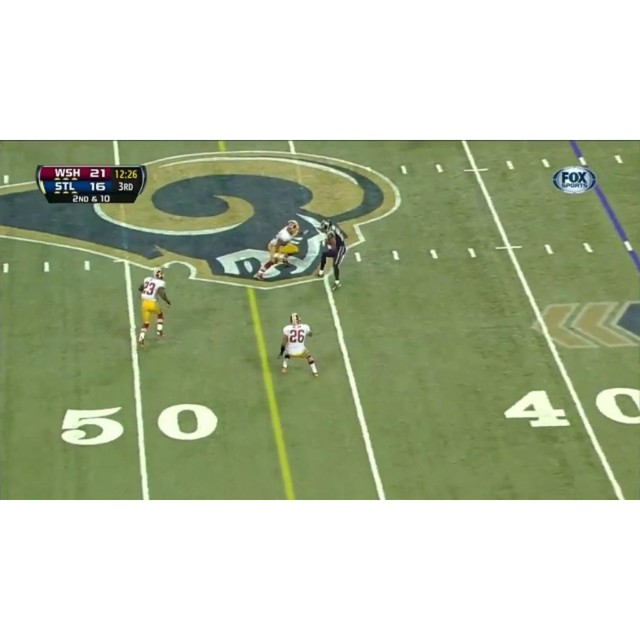american-football-player: (136, 268, 172, 347), (255, 220, 301, 280), (279, 312, 318, 377), (317, 220, 347, 290)
